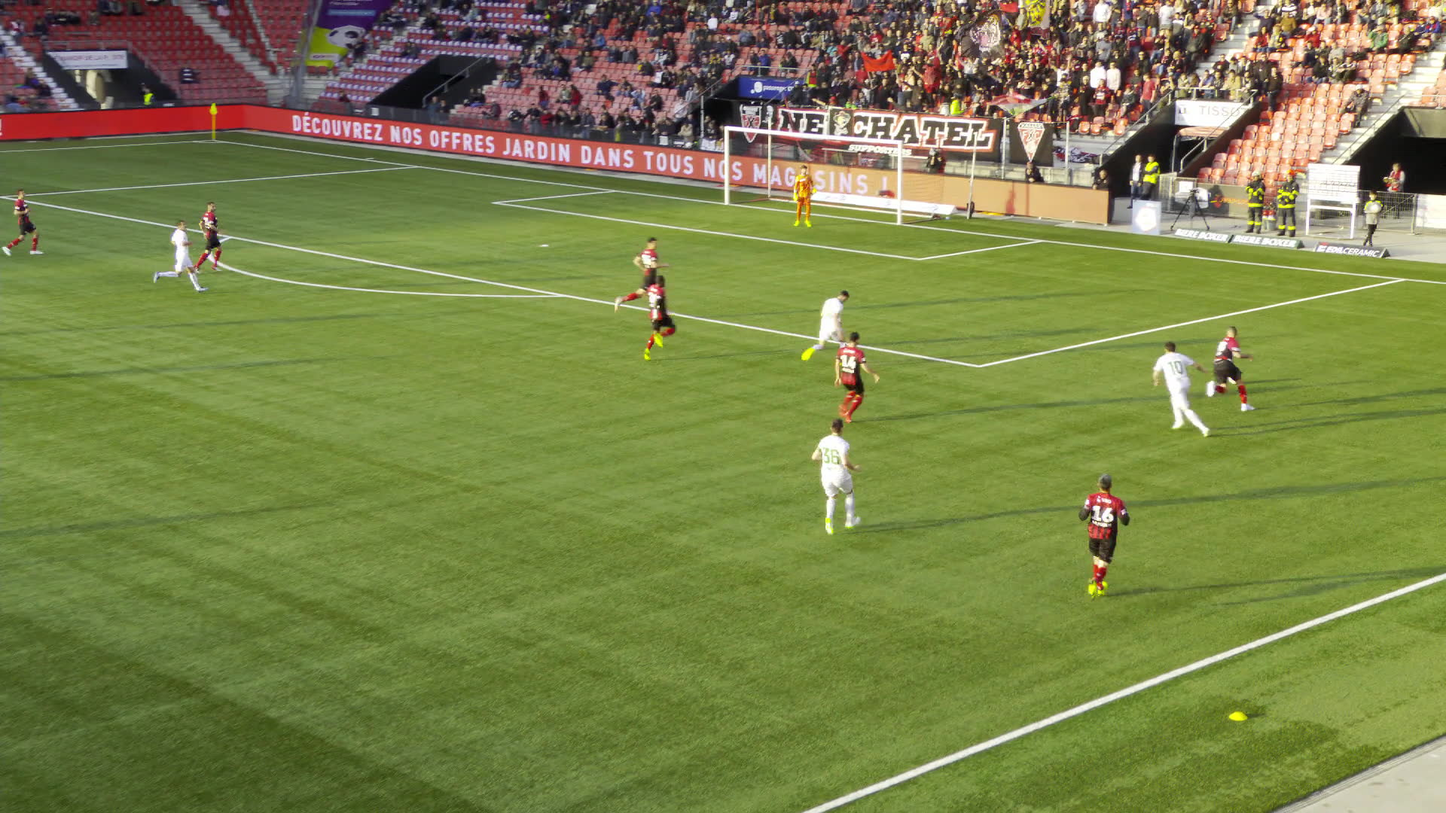ball: (1227, 376, 1236, 384)
player: (1078, 473, 1130, 600), (810, 418, 860, 534), (1153, 341, 1210, 437), (613, 237, 670, 315), (834, 331, 880, 422), (1207, 325, 1255, 410), (153, 220, 207, 291), (801, 289, 848, 364), (1, 188, 43, 255), (643, 276, 676, 361), (194, 200, 222, 271), (793, 164, 815, 227)
